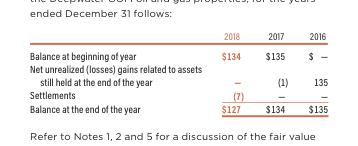table: (29, 29, 327, 114)
table column: (29, 29, 211, 114), (211, 29, 254, 114), (254, 29, 297, 114), (297, 29, 327, 114)
table column header: (29, 29, 327, 45)
table row: (29, 61, 327, 88), (29, 29, 327, 45), (29, 45, 327, 61), (29, 88, 327, 101), (29, 101, 327, 114)
